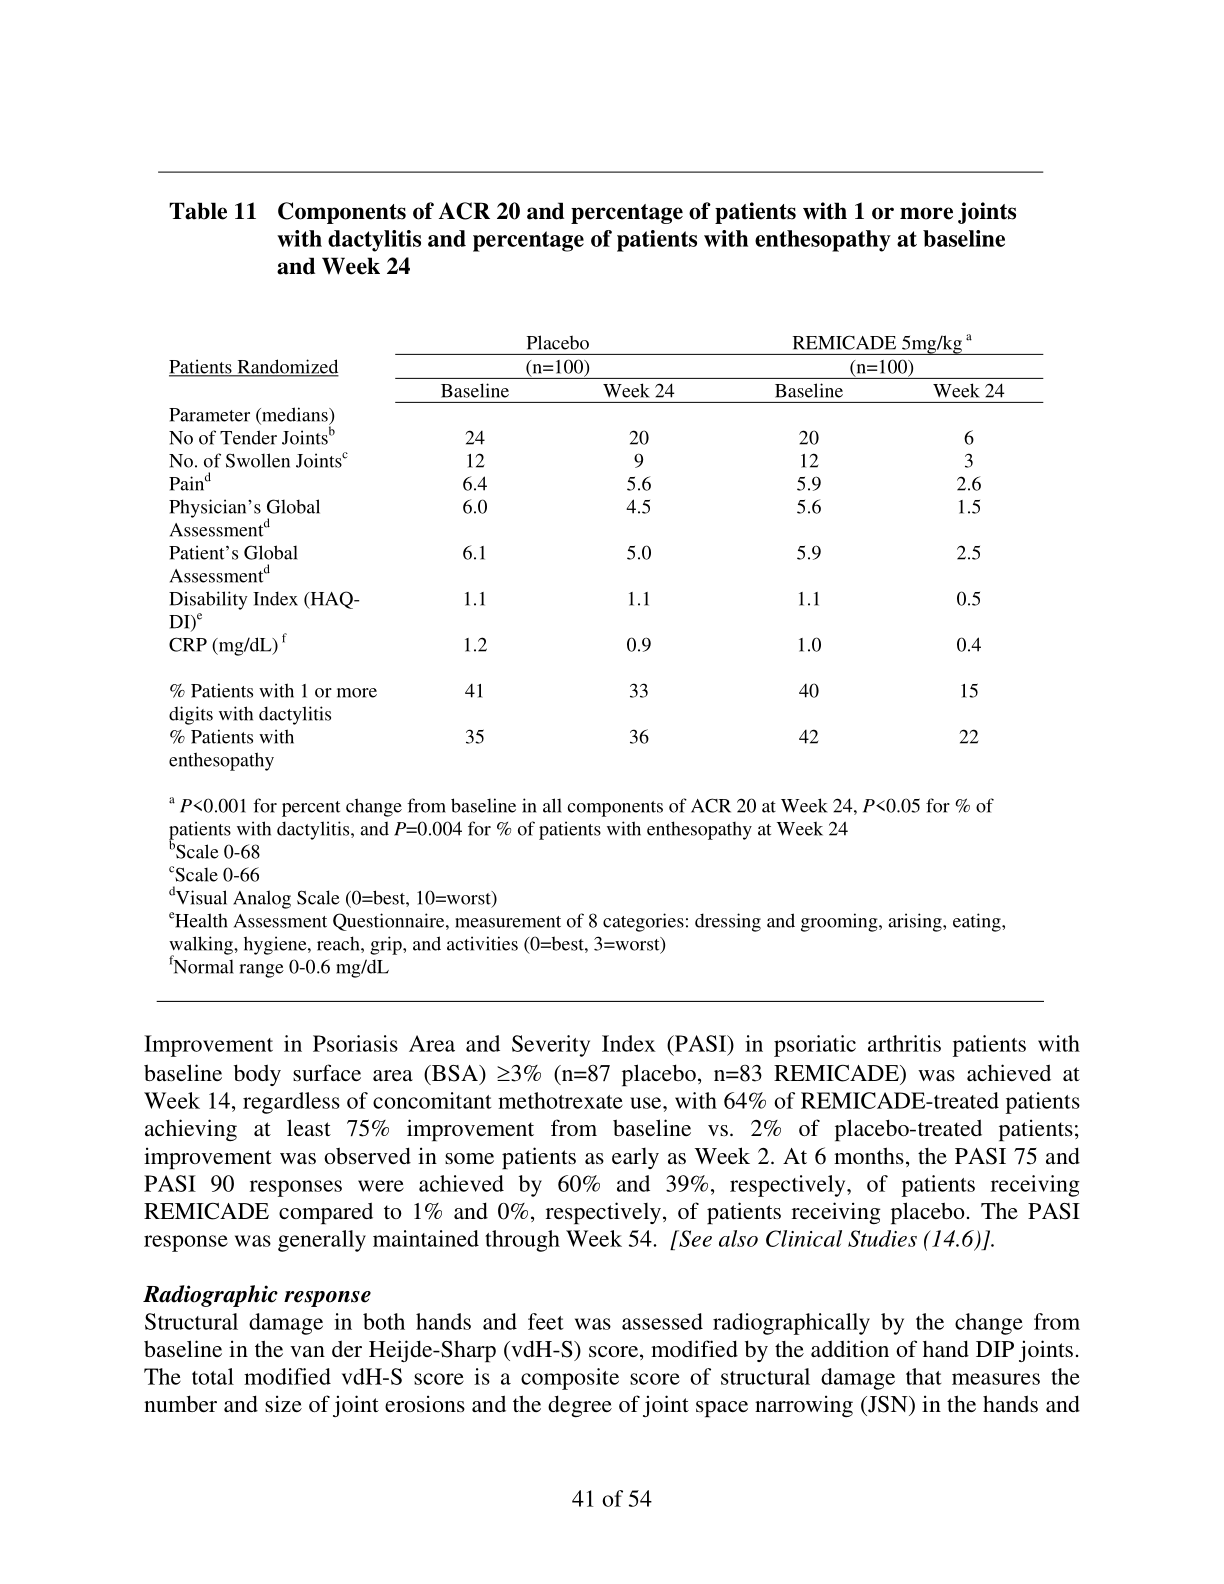partial_lined_merged_cells: (166, 323, 1043, 773)
